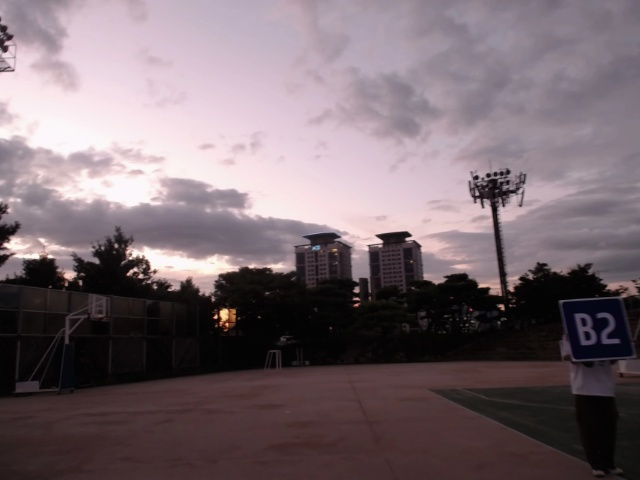delivery_b2: (557, 298, 636, 362)
